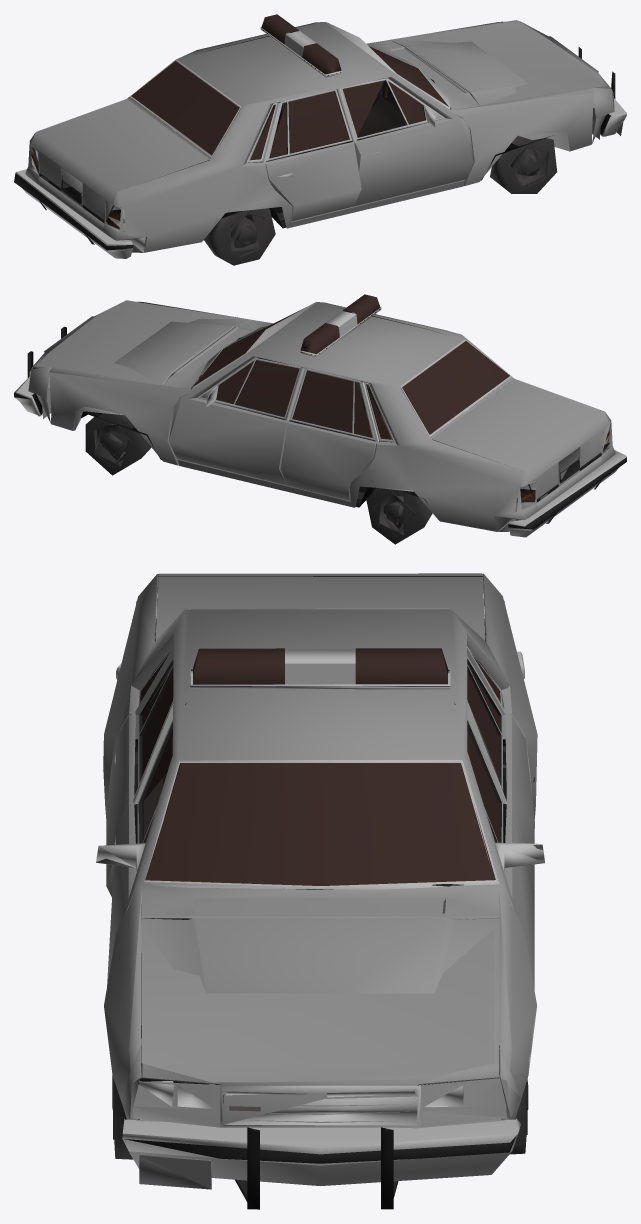
File: car-cruiser.lod0.glb
3 renders of one model, top to bottom at view 1: azimuth 30°, elevation 25°; view 2: azimuth 150°, elevation 25°; view 3: azimuth 270°, elevation 25°, orthographic. The views are drawn at different scales.
Parts seen in each view (by area): view 1: Fairheaven_LT80_WheelStamp_FL_RB1c_Tire_1k_0, Fairheaven_LT80_Lightbar_UCB_BOTTOM_GT_0; view 2: Fairheaven_LT80_WheelStamp_FL_RB1c_Tire_1k_0, Fairheaven_LT80_Lightbar_UCB_BOTTOM_GT_0; view 3: Fairheaven_LT80_WheelStamp_FL_RB1c_Tire_1k_0, Fairheaven_LT80_Lightbar_UCB_BOTTOM_GT_0.
Boxes of the visible parts, x1=… form: Fairheaven_LT80_WheelStamp_FL_RB1c_Tire_1k_0: x1=25, y1=14, x2=623, y2=265; Fairheaven_LT80_Lightbar_UCB_BOTTOM_GT_0: x1=14, y1=22, x2=626, y2=258; Fairheaven_LT80_WheelStamp_FL_RB1c_Tire_1k_0: x1=28, y1=294, x2=615, y2=544; Fairheaven_LT80_Lightbar_UCB_BOTTOM_GT_0: x1=14, y1=302, x2=626, y2=537; Fairheaven_LT80_WheelStamp_FL_RB1c_Tire_1k_0: x1=103, y1=573, x2=537, y2=1189; Fairheaven_LT80_Lightbar_UCB_BOTTOM_GT_0: x1=96, y1=576, x2=544, y2=1209.
Bounding box in the file's own units: 5.06 × 1.48 × 1.83.
Materials: 2 (1 with a texture image).
